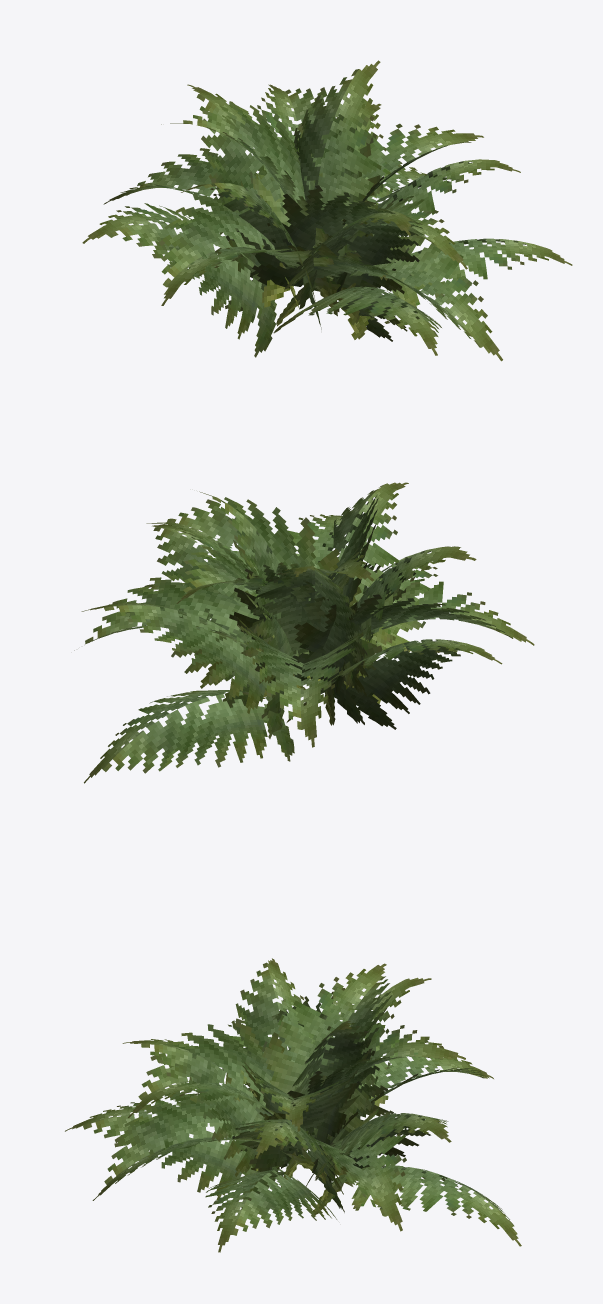
The model's file is fern-big.lod2.glb.
The picture shows the model from 3 angles, top to bottom: view 1: azimuth 30°, elevation 25°; view 2: azimuth 150°, elevation 25°; view 3: azimuth 270°, elevation 25°; orthographic projection. The views are drawn at different scales.
Visible parts, largest first — view 1: SM_MZRa_Fern_B051_MI_MZRa_Fern_B051_0; view 2: SM_MZRa_Fern_B051_MI_MZRa_Fern_B051_0; view 3: SM_MZRa_Fern_B051_MI_MZRa_Fern_B051_0.
Part boxes in pixels (x1=…): SM_MZRa_Fern_B051_MI_MZRa_Fern_B051_0: x1=82, y1=60, x2=572, y2=361; SM_MZRa_Fern_B051_MI_MZRa_Fern_B051_0: x1=74, y1=482, x2=534, y2=783; SM_MZRa_Fern_B051_MI_MZRa_Fern_B051_0: x1=65, y1=958, x2=521, y2=1252.
Bounding box in the file's own units: 2.73 × 1.48 × 2.75.
Materials: 1 (1 with a texture image).
